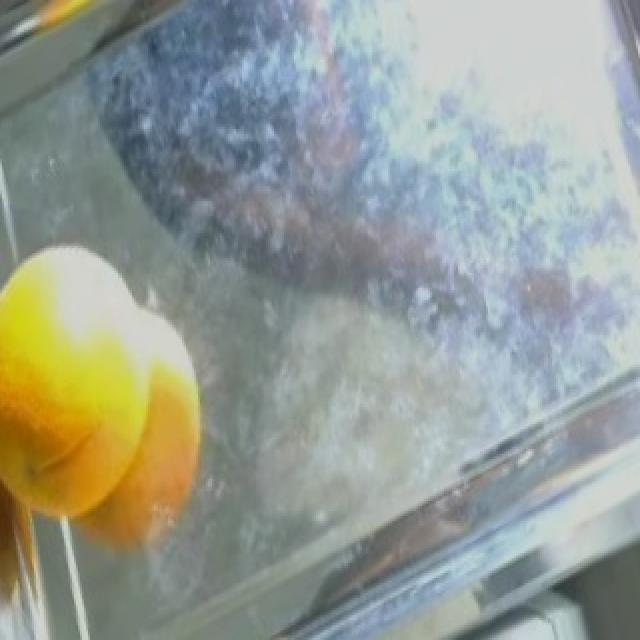Fruit: (16, 337, 236, 583), (0, 0, 154, 69)
